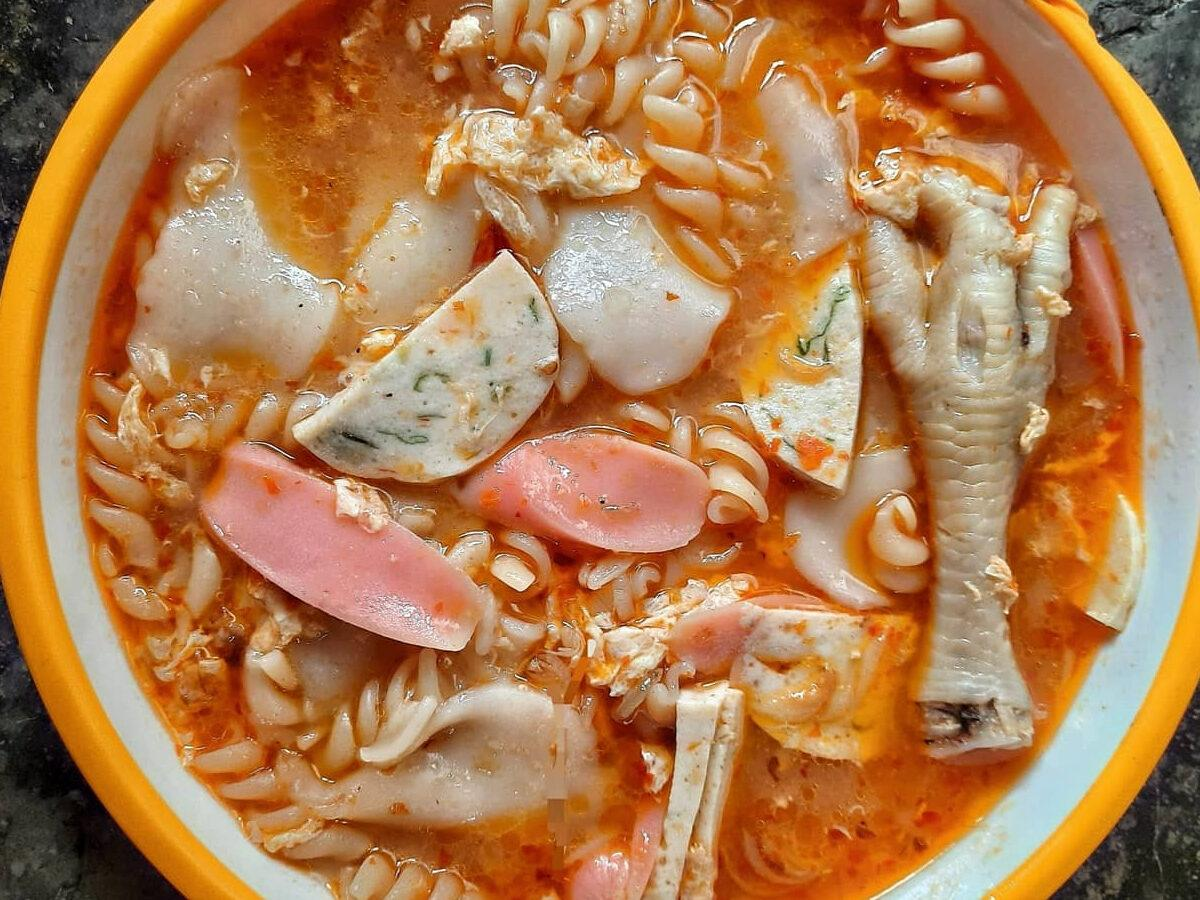seblak: (84, 4, 1143, 900)
